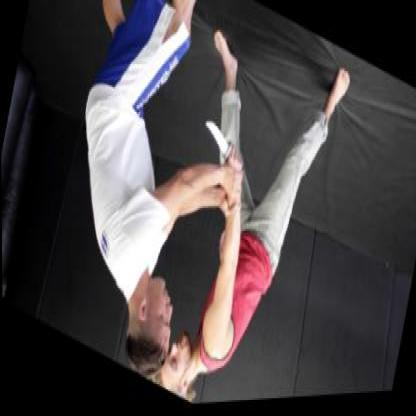knife: (198, 116, 248, 178)
